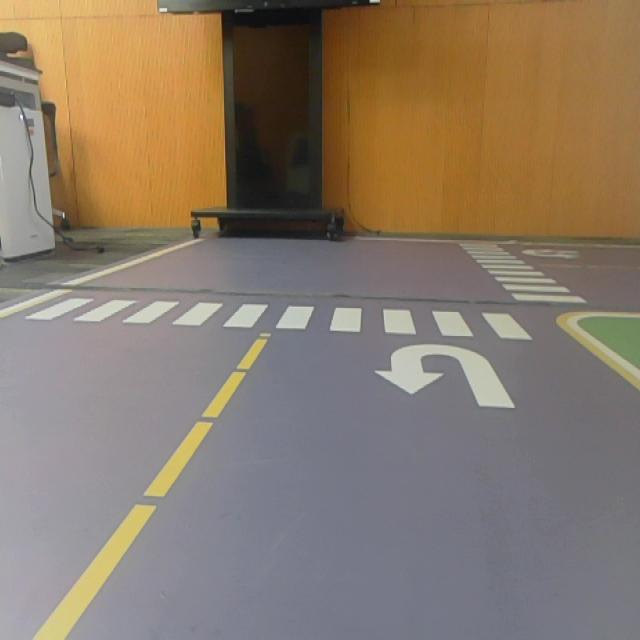left_lane: (32, 328, 273, 640)
right_lane: (557, 321, 640, 391)
